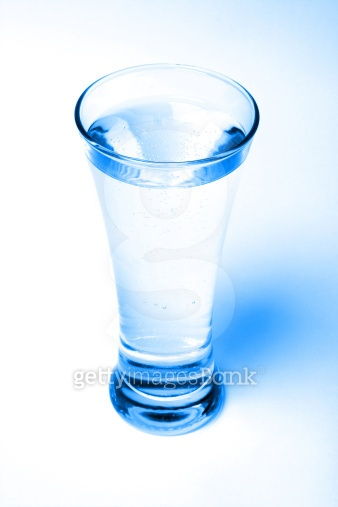glass of water: (73, 58, 269, 433)
